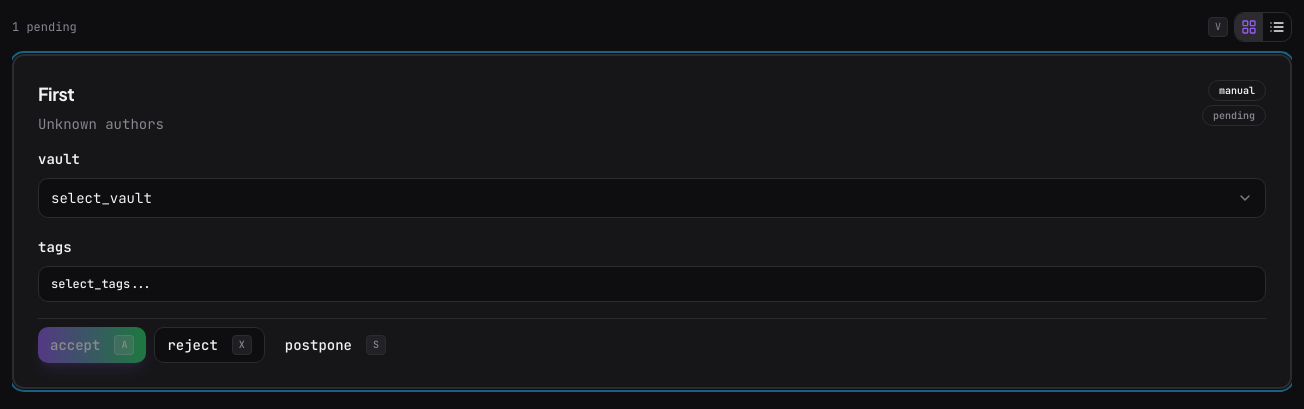
Test: InboxQueue › toggles between card and list view via the toolbar buttons and the "v" shortcut
Click the button named "list view" at coordinates (1277, 27), box [1263,13,1291,41]
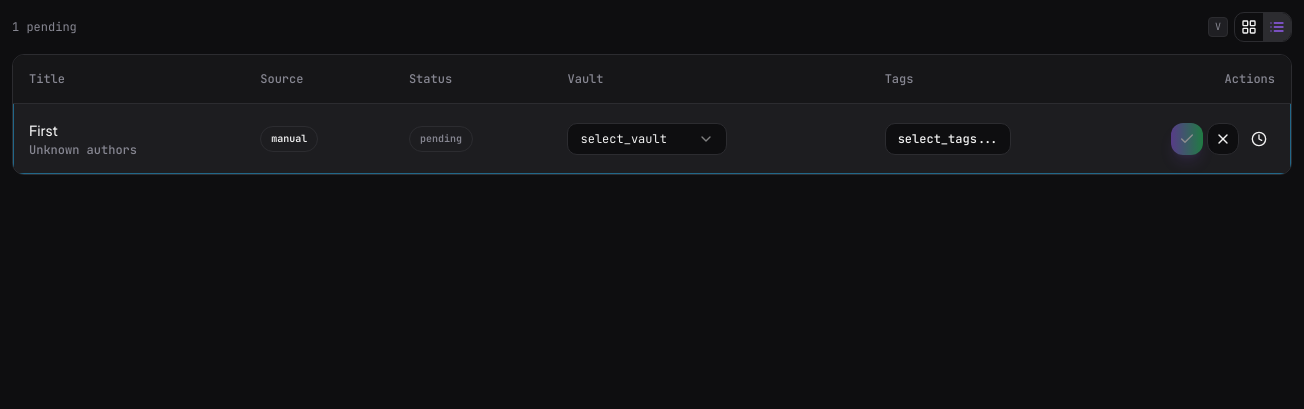
Check: the table is shown, box [13,55,1291,174]
Check: the column heading "Title" is shown, box [13,55,244,103]
Press v
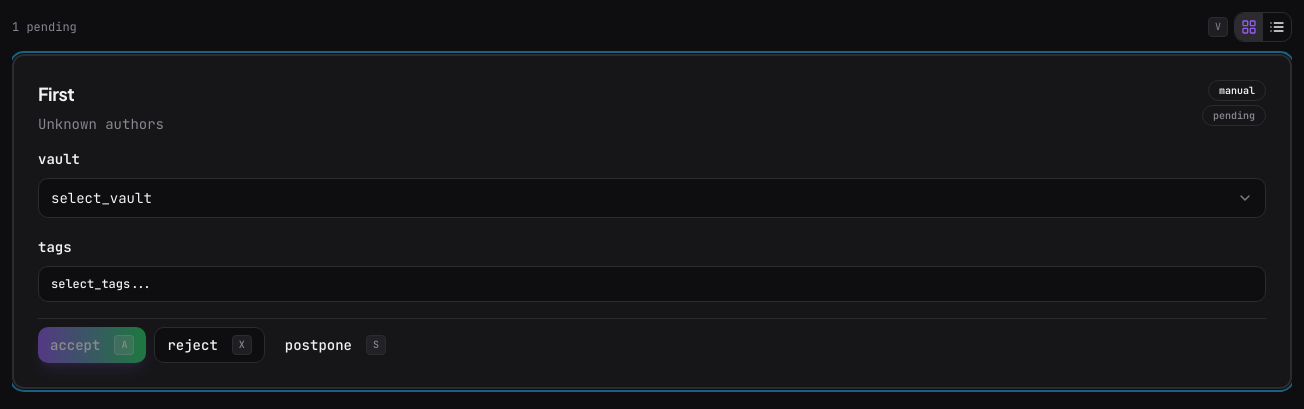
Check: the table is gone
